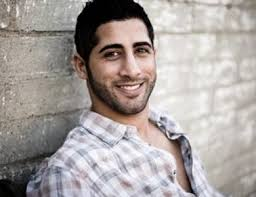middle_eastern_male: (91, 23, 163, 113)
